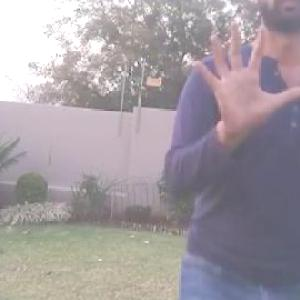follow_hand: (187, 16, 299, 138)
